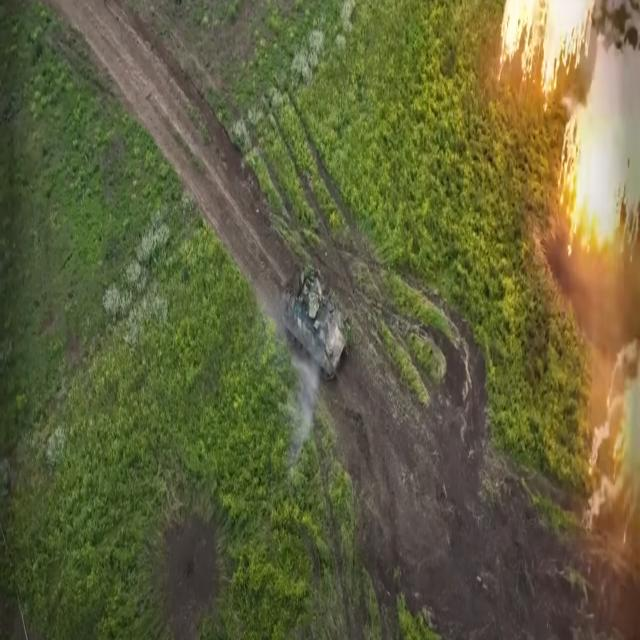AIFV: (283, 260, 353, 388)
